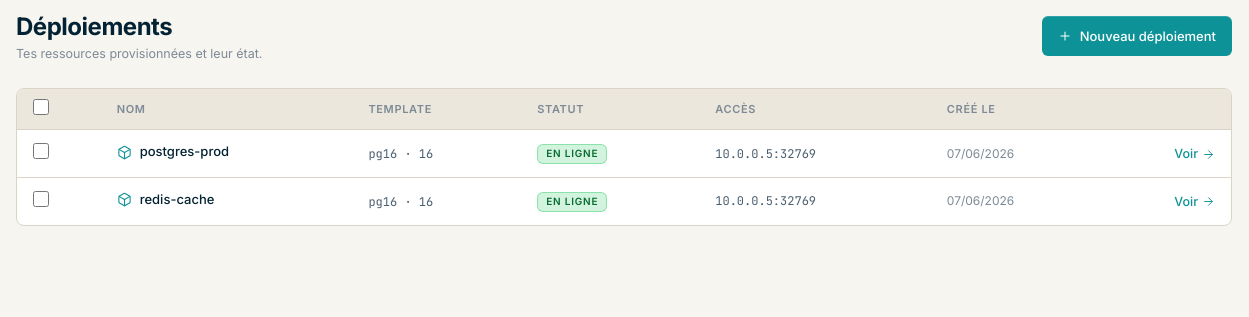
Test: DeploymentsPage (liste) › sélectionne tout et arrête en masse via fan-out (un appel stop par déploiement)
Click the checkbox named "Tout sélectionner".
click(41, 107)  # box [33,99,49,115]
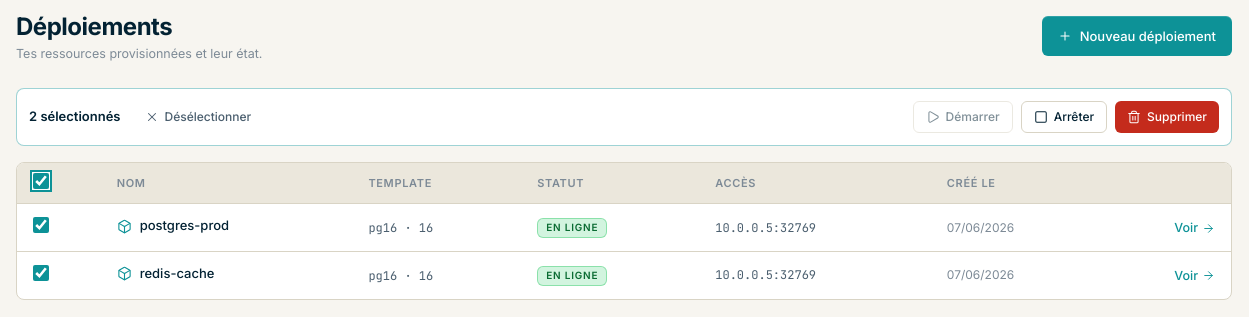
Click the button "Arrêter".
click(1064, 117)  # box [1021,101,1107,133]
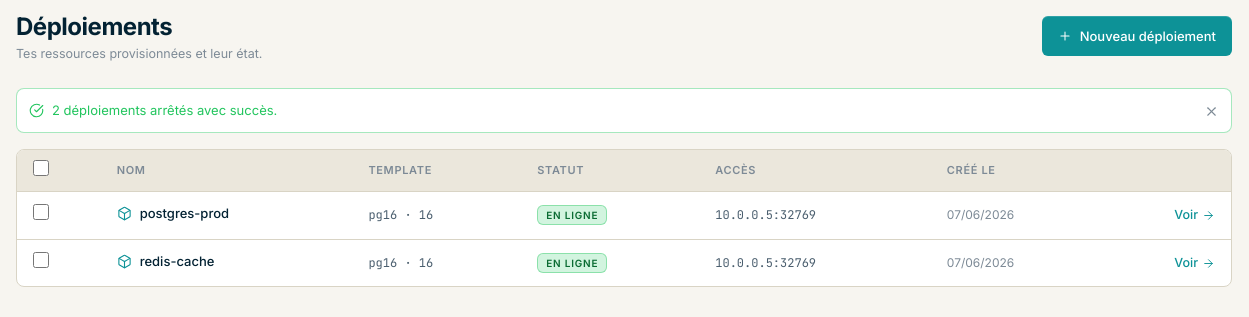
expect the text "2 déploiements arrêtés avec succès." is shown: met, box [29,101,277,120]
